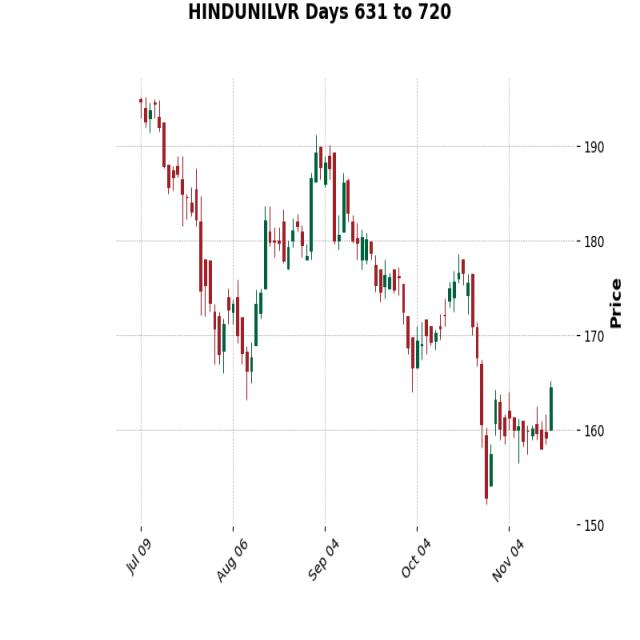Head and Shoulder: (236, 124, 386, 308)
